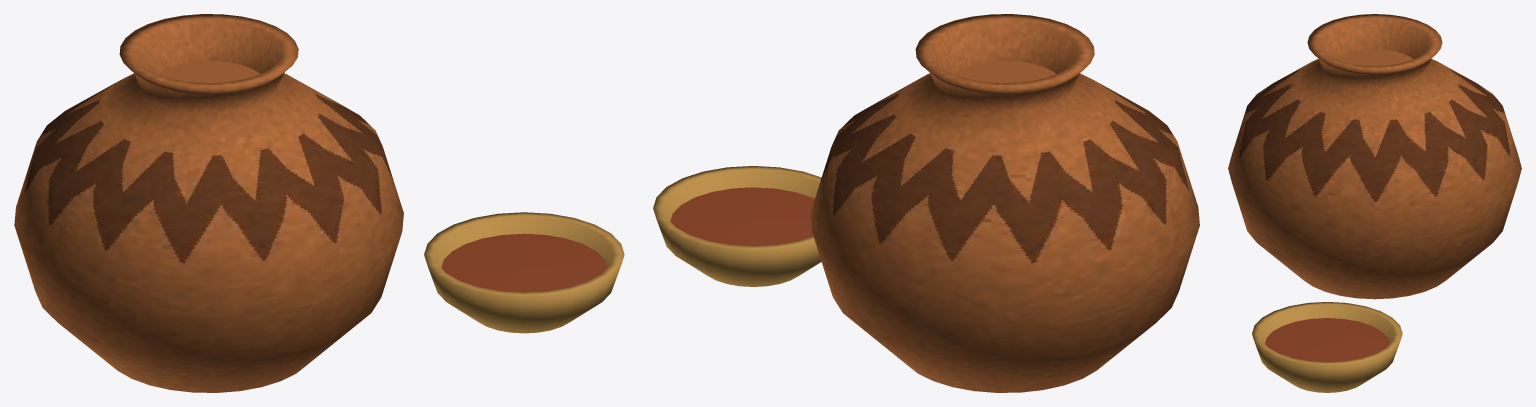
The model's file is dolo.glb.
The picture shows the model from 3 angles, left to right: view 1: azimuth 30°, elevation 25°; view 2: azimuth 150°, elevation 25°; view 3: azimuth 270°, elevation 25°; orthographic projection. The views are drawn at different scales.
Parts seen in each view (by area): view 1: dolo; view 2: dolo; view 3: dolo.
Boxes of the visible parts, x1=… form: dolo: x1=14, y1=14, x2=624, y2=392; dolo: x1=653, y1=14, x2=1199, y2=392; dolo: x1=1228, y1=14, x2=1521, y2=392.
Bounding box in the file's own units: 1.18 × 0.65 × 0.74.
Materials: 3 (1 with a texture image).
